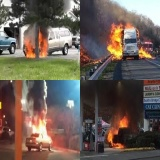fire: (106, 20, 157, 60), (23, 26, 50, 60), (107, 117, 130, 149), (32, 118, 51, 138), (80, 46, 102, 63)
